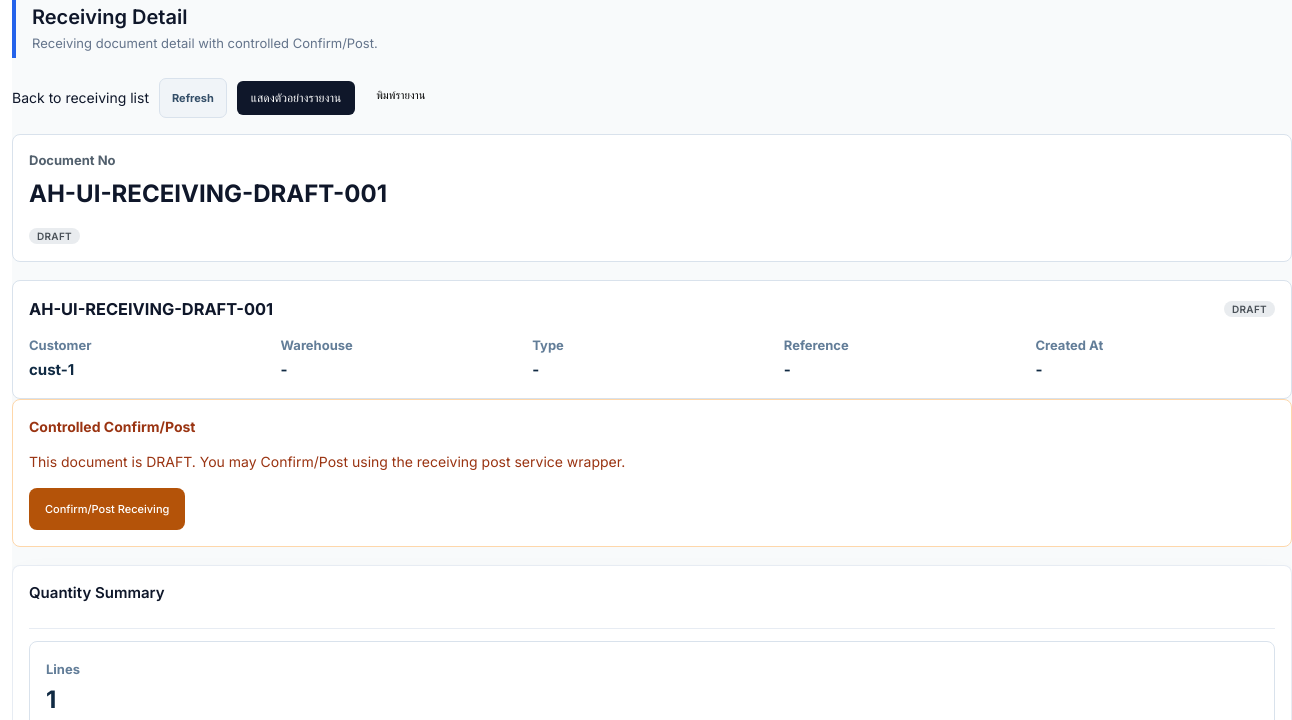
Test: Sprint 13J-AJ-FIX1 ReceivingDetailPage Confirm/Post › shows RPC error message on post failure
Click the button "Confirm/Post Receiving" at (107, 509), box [29,488,185,530]
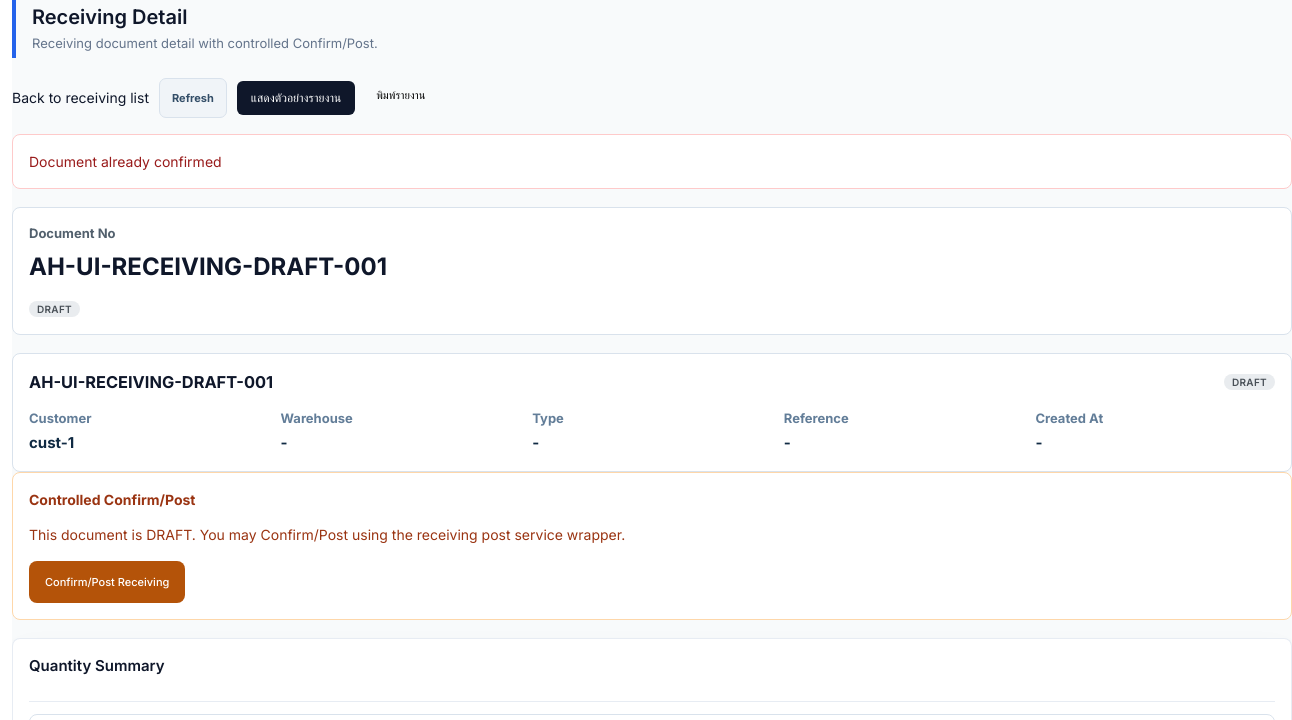
Expected: the button "Confirm/Post Receiving" is enabled, [29,561,185,603]
Expected: the message reads "Document already confirmed", [29,152,222,170]
